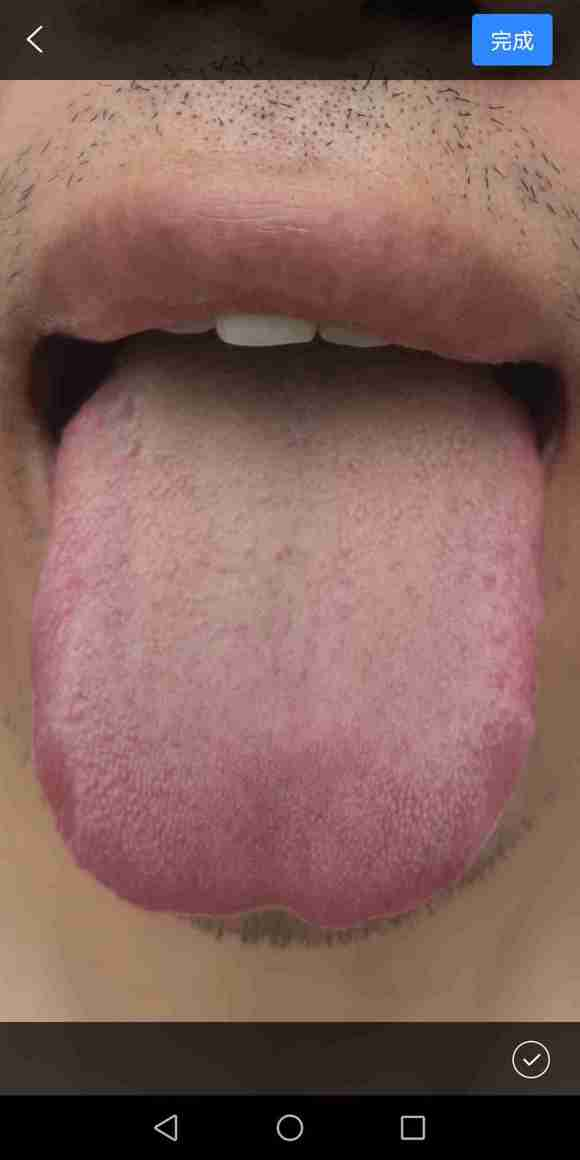chihenshe: (29, 677, 84, 865)
hongshe: (29, 330, 543, 929)
huangtaishe: (30, 330, 544, 929)
xinfeiao: (181, 870, 358, 930)
